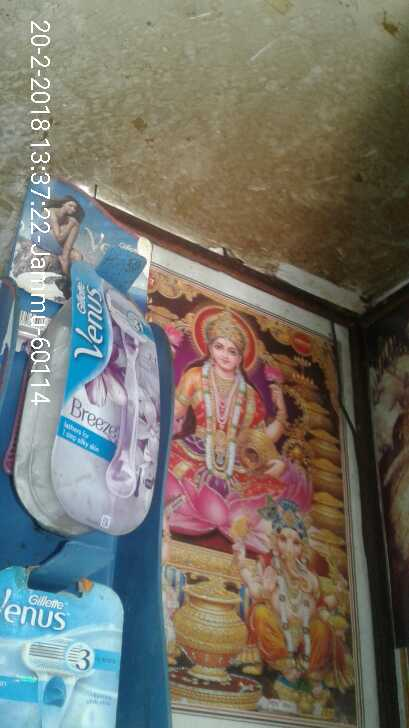venus: (39, 273, 161, 534)
